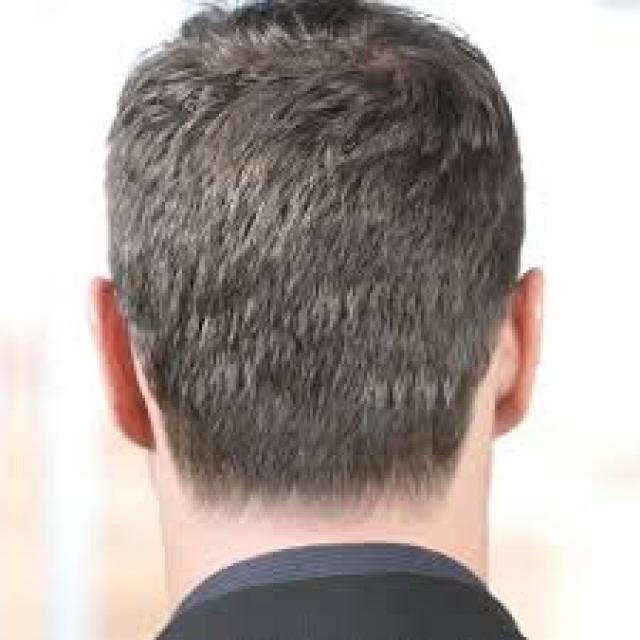Non_Helmet: (67, 0, 565, 514)
